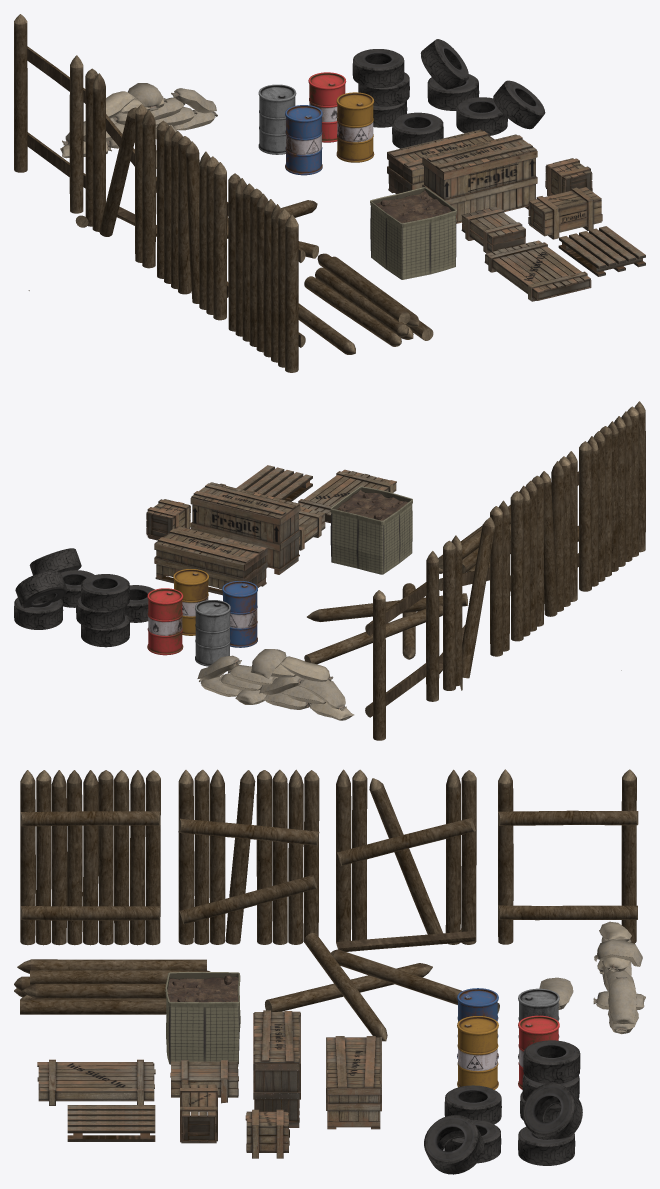
Rendered from assets_pack_free_survivalpostapo.glb.
The picture shows the model from 3 angles, top to bottom: view 1: azimuth 30°, elevation 25°; view 2: azimuth 150°, elevation 25°; view 3: azimuth 270°, elevation 25°; orthographic projection. The views are drawn at different scales.
Parts seen in each view (by area): view 1: palisada.012, palisada.022, palisada.007, Cube.100, Cube.007, palisada.014, palisada.008, Cube.069, Cube.030, opon.005, opon.006, Cube.081 (+12 smaller); view 2: palisada.012, palisada.022, palisada.007, Cube.030, Cube.007, Cube.100, palisada.014, Cube.109, opon.005, palisada.003, opon.003, Cylinder.002 (+10 smaller); view 3: palisada.012, palisada.022, palisada.007, palisada.014, palisada.008, Cube.007, palisada.003, Cube.109, Cube.100, Cube.069, opon.003, Cube.030 (+13 smaller).
Part boxes in pixels (x1,y1,x2,y2): palisada.012: (228, 173, 305, 372); palisada.022: (156, 120, 228, 320); palisada.007: (28, 68, 156, 290); Cube.100: (422, 134, 537, 223); Cube.007: (370, 187, 456, 279); palisada.014: (14, 14, 85, 213); palisada.008: (304, 253, 433, 346); Cube.069: (484, 240, 591, 301); Cube.030: (60, 83, 217, 158); opon.005: (352, 49, 409, 127); opon.006: (456, 80, 545, 135); Cube.081: (528, 187, 602, 239); palisada.012: (577, 401, 645, 591); palisada.022: (510, 451, 577, 641); palisada.007: (439, 500, 621, 690); Cube.030: (197, 649, 354, 720); Cube.007: (330, 486, 412, 574); Cube.100: (190, 482, 300, 574); palisada.014: (365, 551, 439, 740); Cube.109: (154, 526, 267, 595); opon.005: (76, 574, 129, 647); palisada.003: (304, 583, 467, 664); opon.003: (14, 570, 67, 629); Cylinder.002: (147, 588, 183, 655); palisada.012: (20, 770, 160, 945); palisada.022: (178, 769, 319, 944); palisada.007: (336, 769, 476, 951); palisada.014: (498, 769, 638, 944); palisada.008: (14, 970, 210, 1014); Cube.007: (165, 972, 240, 1064); palisada.003: (265, 933, 499, 1041); Cube.109: (326, 1036, 381, 1129); Cube.100: (253, 1010, 300, 1127); Cube.069: (37, 1059, 155, 1105); opon.003: (518, 1083, 582, 1165); Cube.030: (593, 921, 645, 1034).
Bounding box in the file's own units: 9.67 × 2.59 × 8.47.
6 materials, 6 textured.
